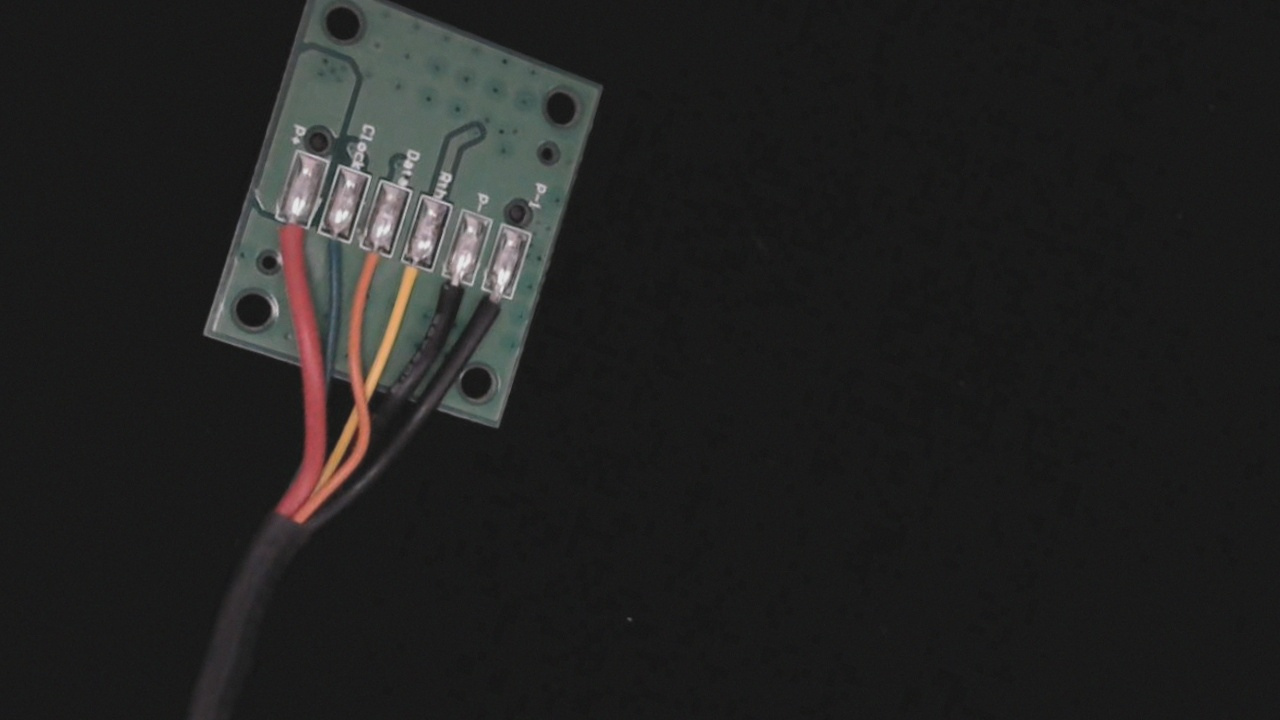Black: (419, 253, 480, 343)
Black1: (464, 271, 522, 354)
Green: (297, 209, 357, 295)
Orange: (342, 225, 401, 313)
Red: (257, 192, 317, 279)
Yellow: (378, 238, 440, 329)
